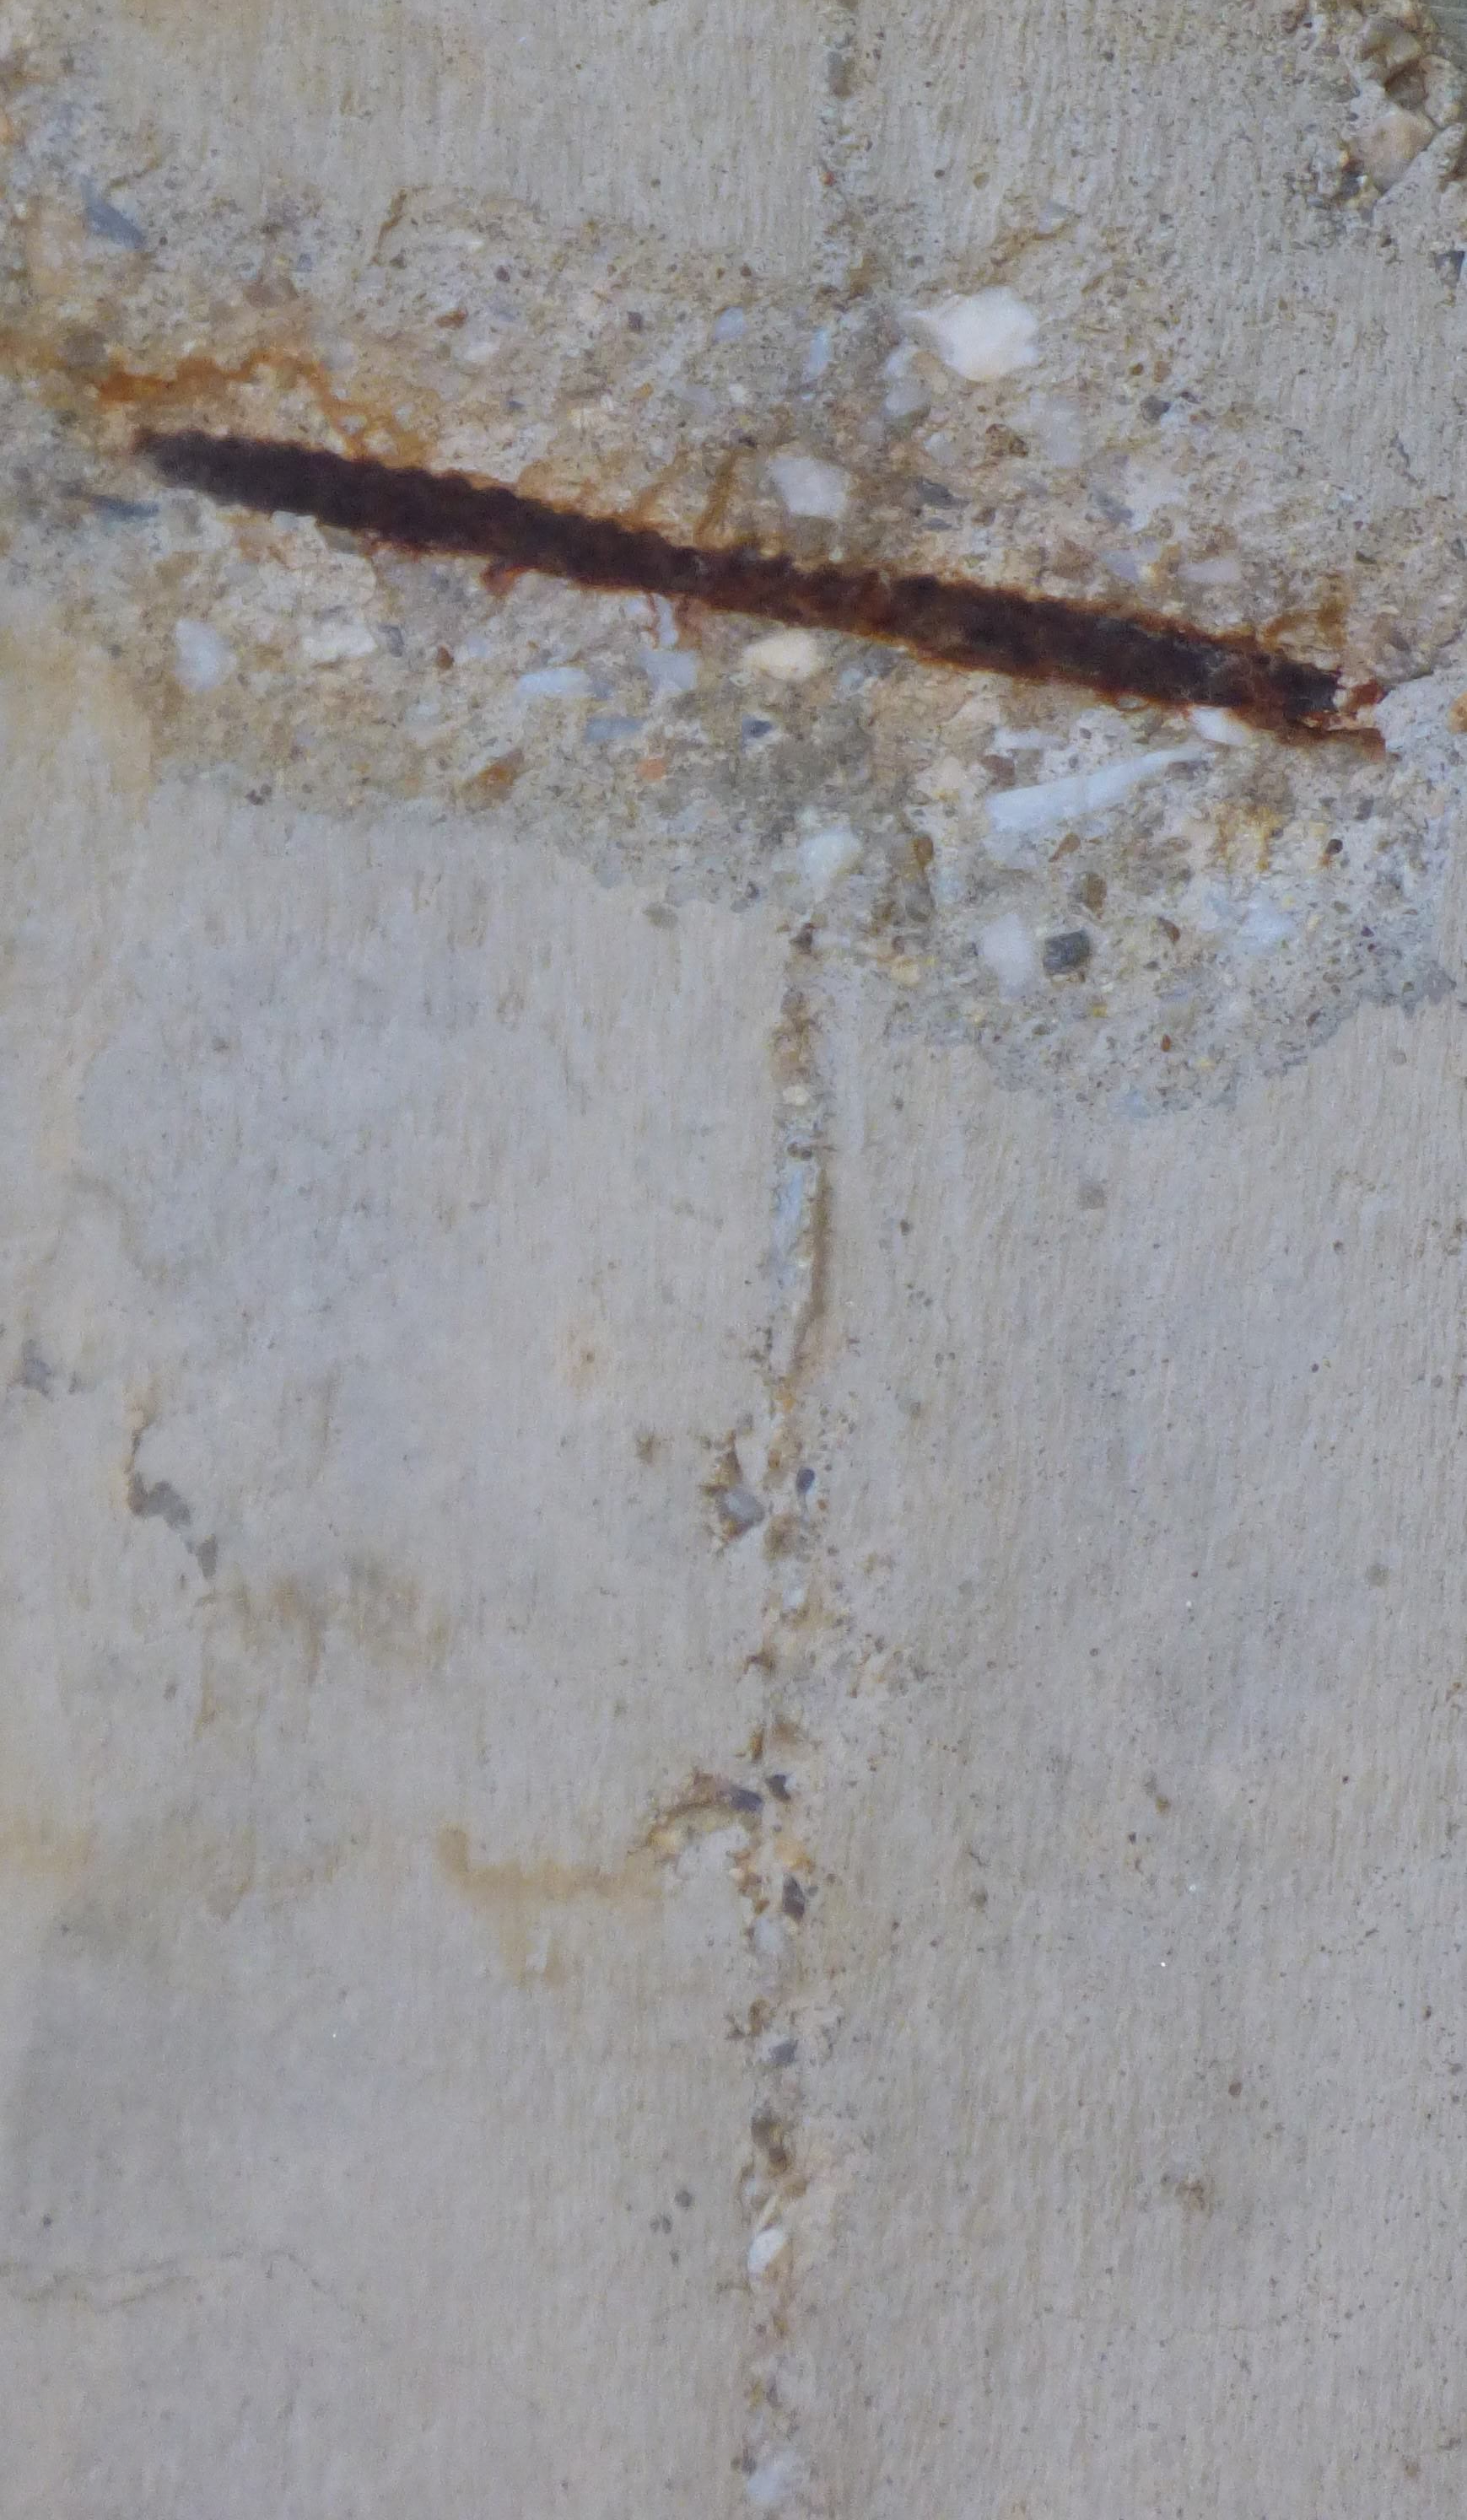Exposed reinforcement: (124, 426, 1385, 747)
Spalling: (0, 0, 1467, 1117)
